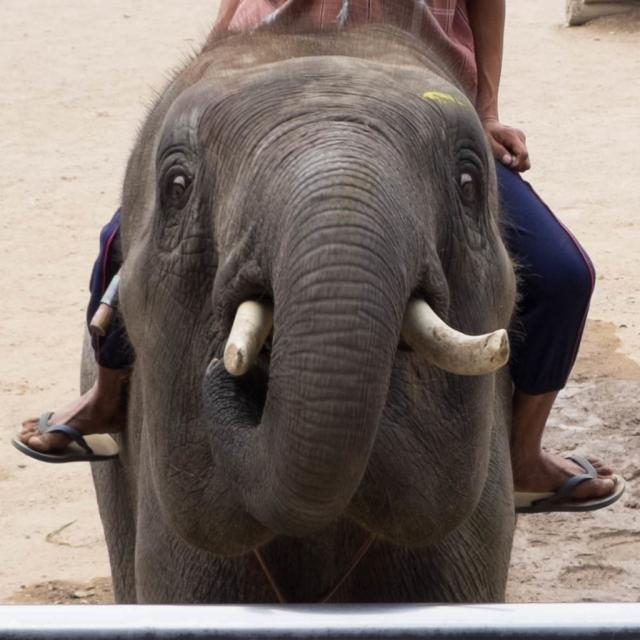Elephant: (80, 6, 542, 604)
